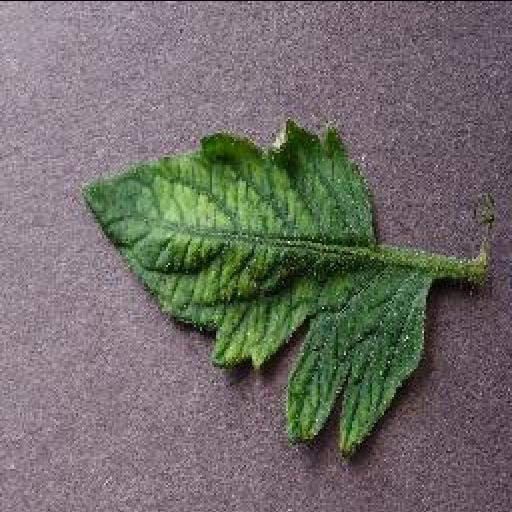Mosaic Virus: (78, 116, 436, 462)
